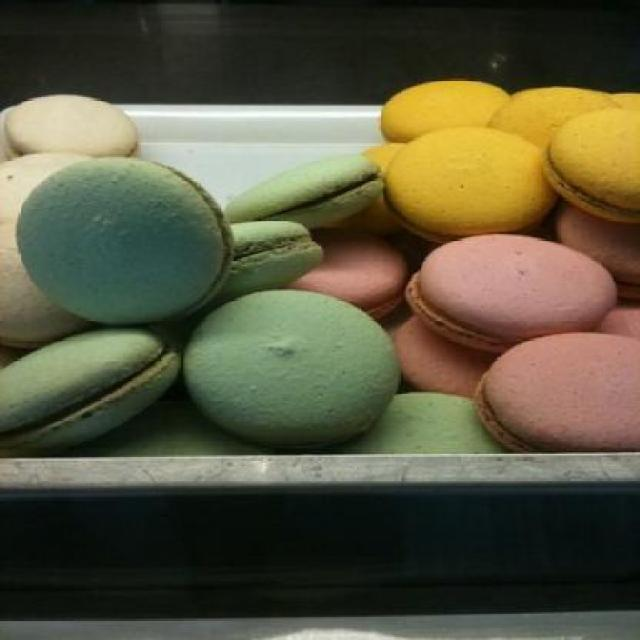Macaron: (4, 75, 638, 458)
